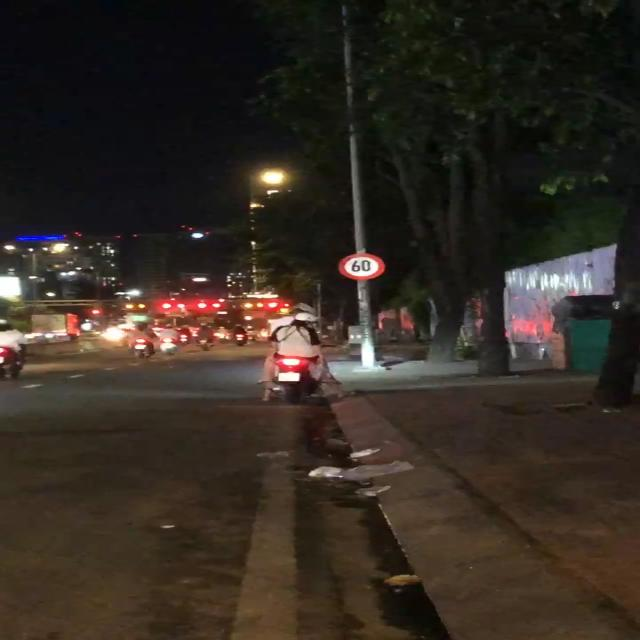Bien bao toc do toi da cho phep: (336, 251, 389, 282)
